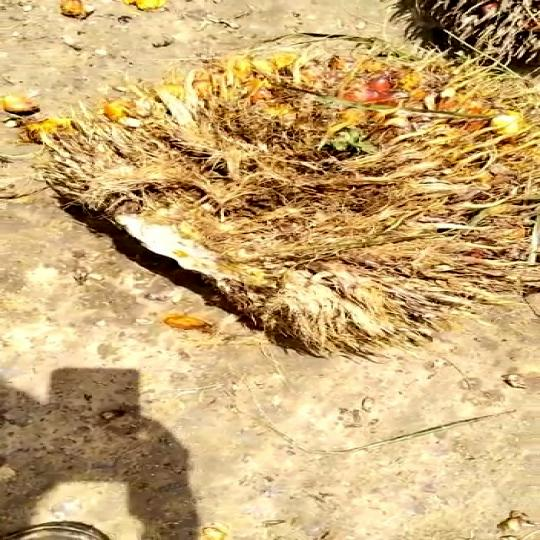terlalu masak: (10, 43, 540, 357)
